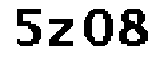0: (81, 6, 116, 52)
5: (12, 6, 45, 49)
8: (117, 6, 152, 51)
z: (47, 16, 77, 49)
